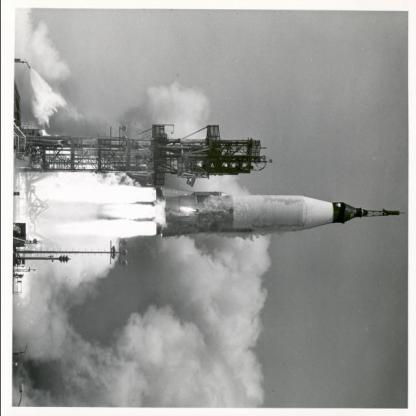MIL_TBM: (153, 187, 360, 242)
